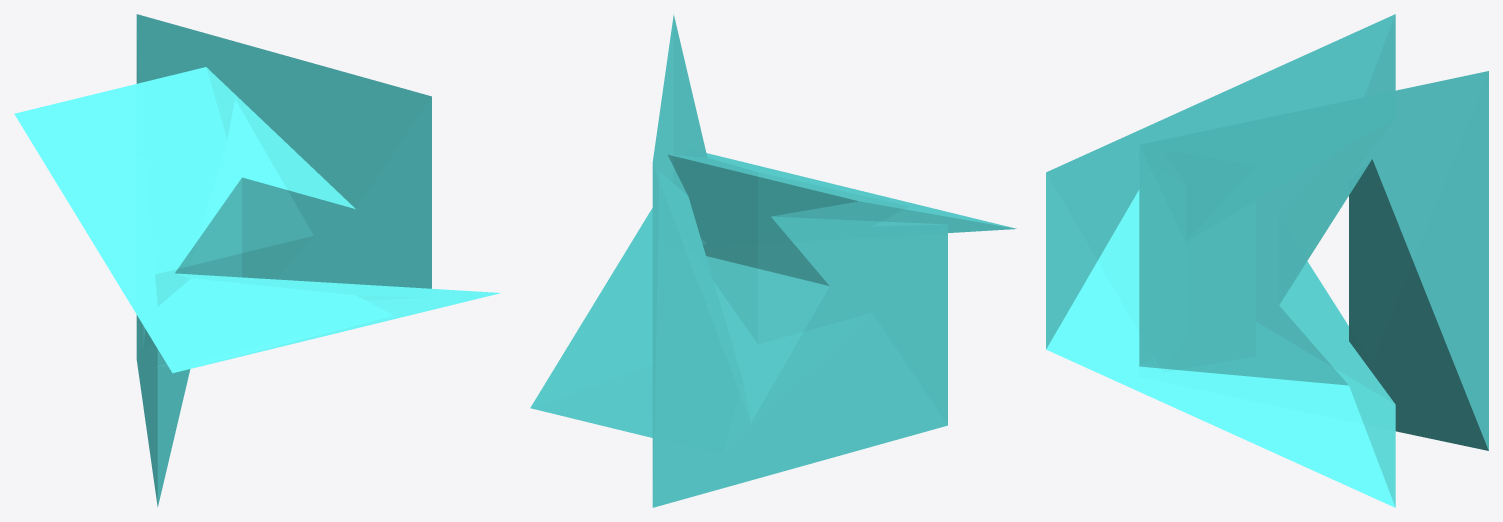
File: HeptagonalDodecahedron_F.obj
3 renders of one model, left to right at view 1: azimuth 30°, elevation 25°; view 2: azimuth 150°, elevation 25°; view 3: azimuth 270°, elevation 25°, orthographic. The views are drawn at different scales.
Bounding box in the file's own units: 3.6 × 3.6 × 3.8.
